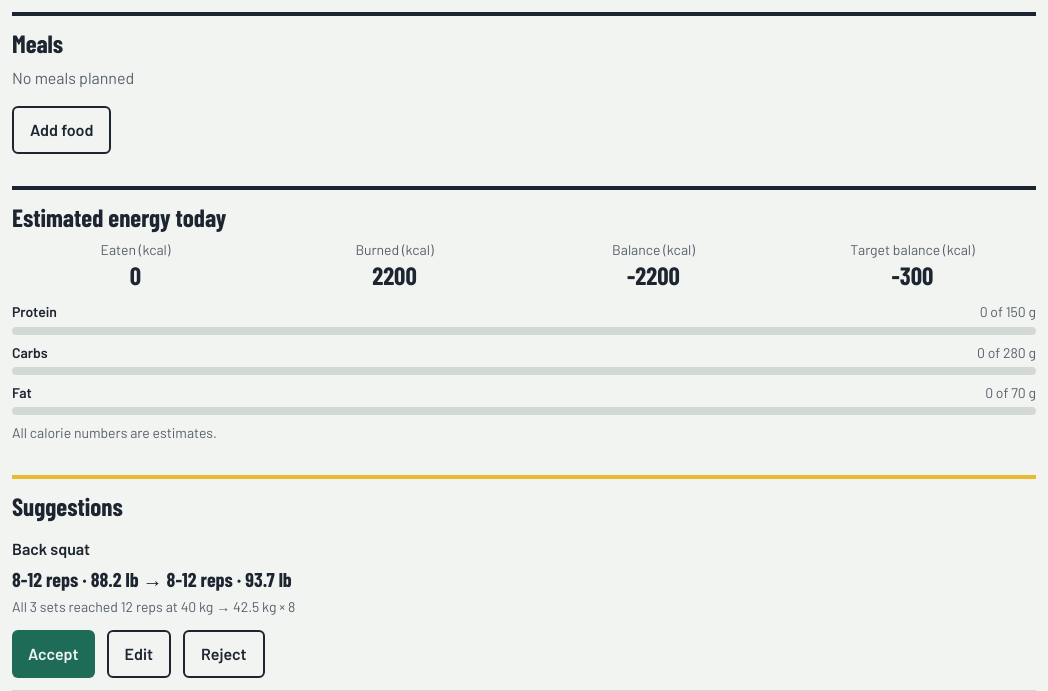
Test: Suggestions on Today › edit-then-accept sends overrides in kg, converting from the user's pounds
The image size is (1048, 691).
(page scrolled)
Click the button "Edit". click: (139, 654)
box: top-left (107, 630), bottom-right (171, 678)
(page scrolled)
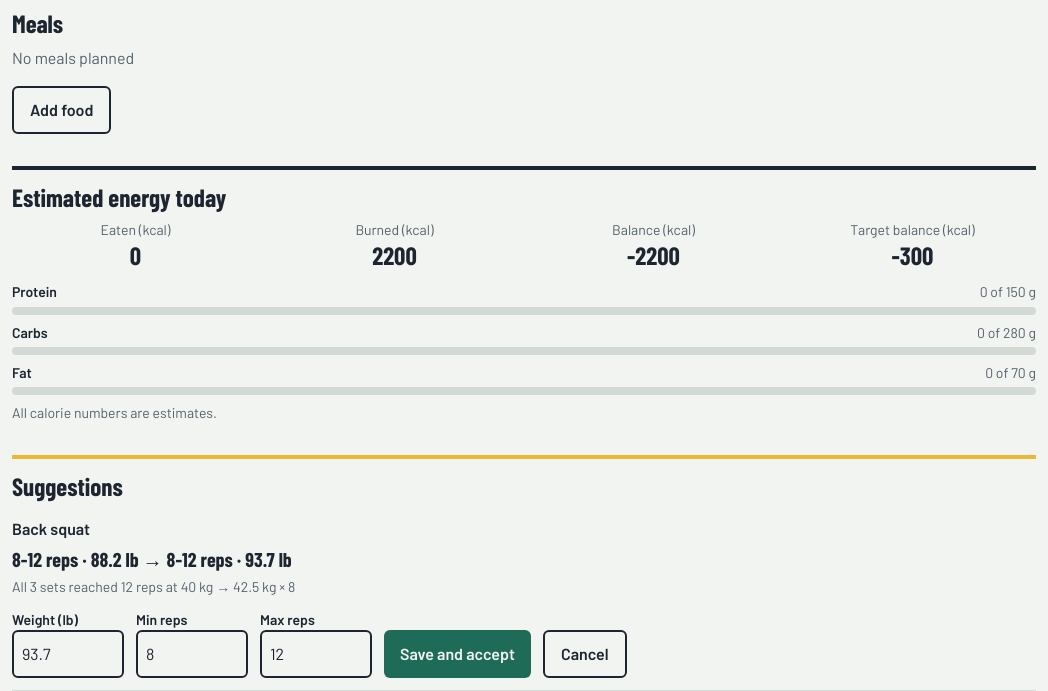
expect the field labelled "Weight (lb)" holds "93.7": met
Replace the text in the field labelled "Weight (lb)" with "90". click: (68, 654)
box: top-left (12, 630), bottom-right (124, 678)
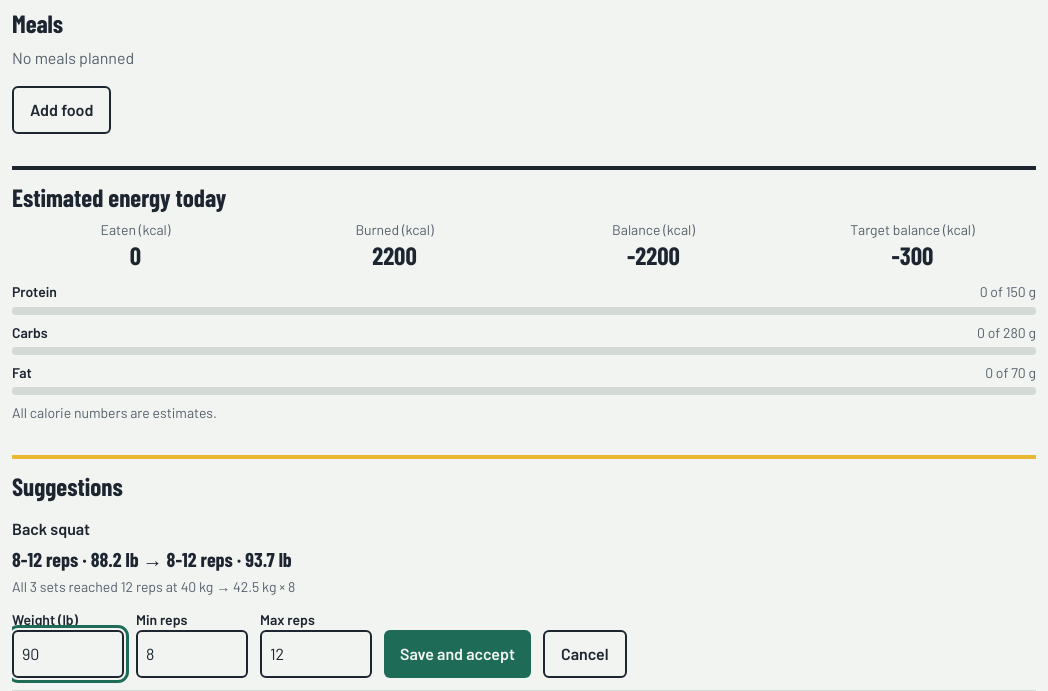
Replace the text in the field labelled "Max reps" with "10". click: (316, 654)
box: top-left (260, 630), bottom-right (372, 678)
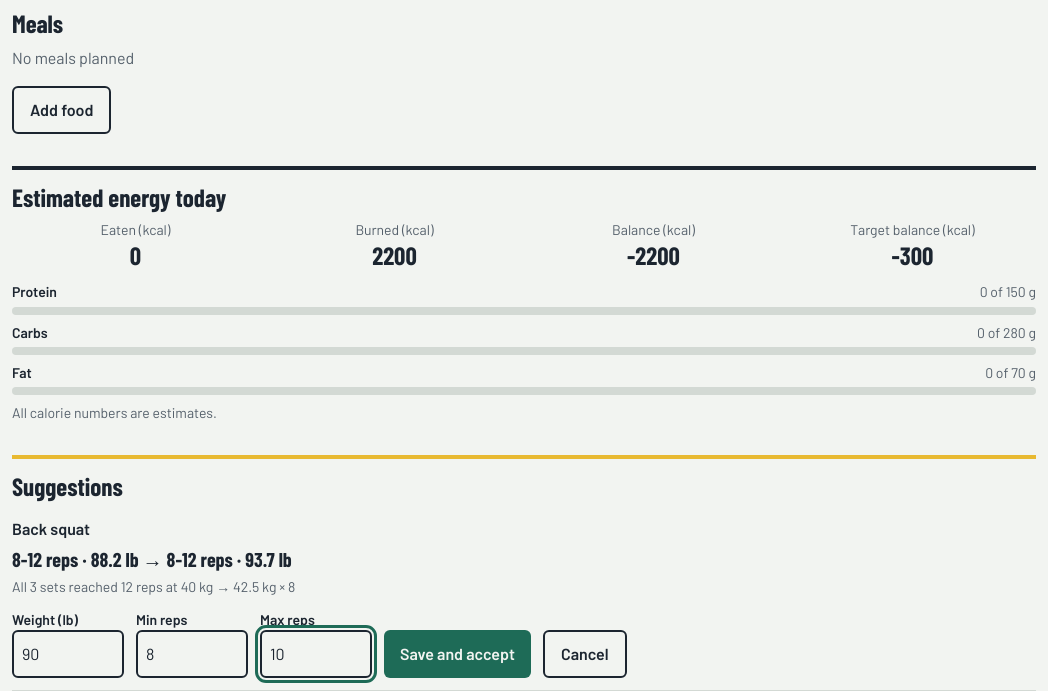
Click the button "Save and accept". click: (458, 654)
box: top-left (384, 630), bottom-right (531, 678)
(page scrolled)
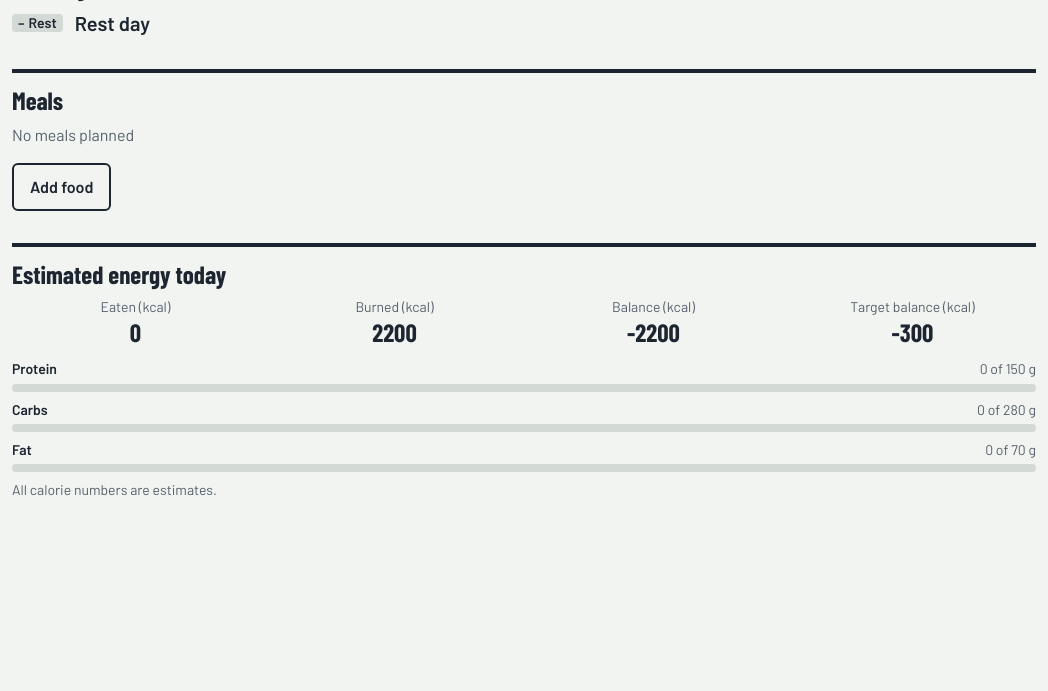
expect the list item with test id "suggestion" is gone: met
